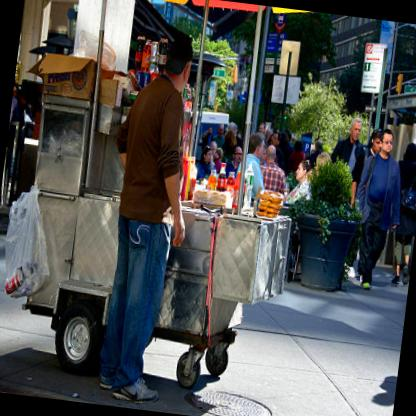manholes: (175, 360, 294, 416)
